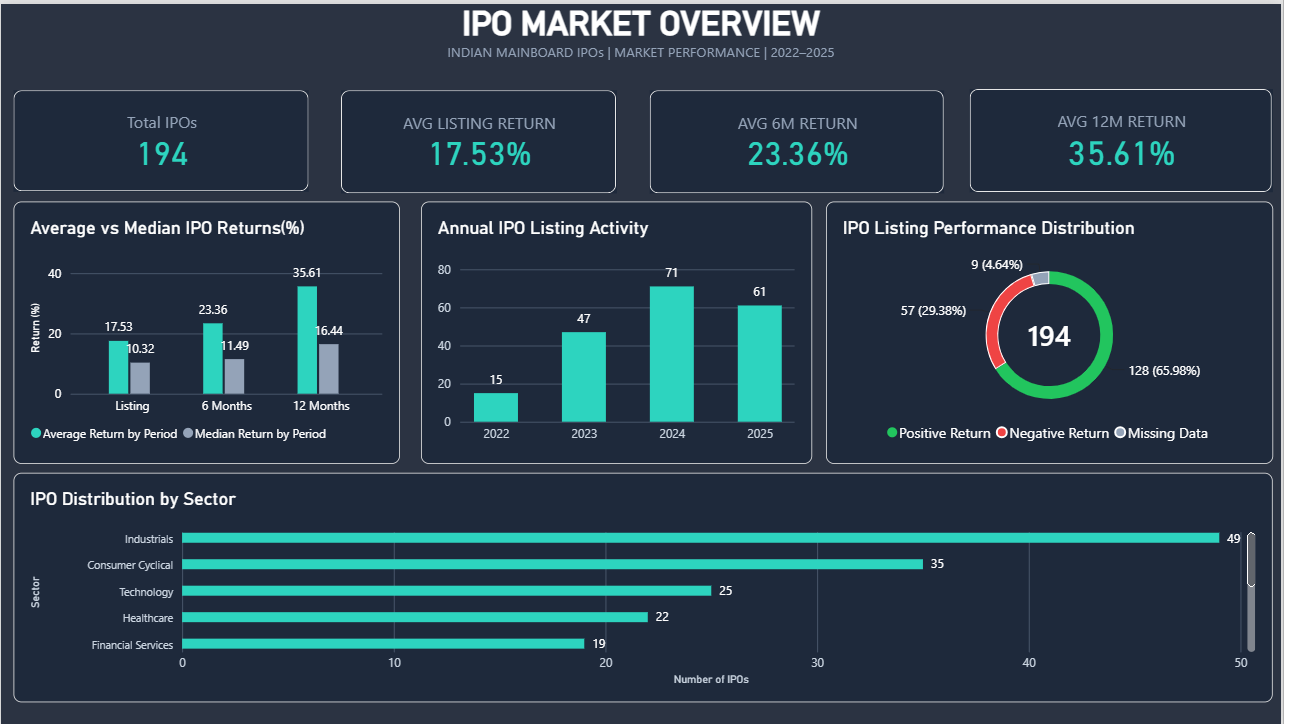

The page's visual inventory and layout, read from the dashboard file:
{"tool":"powerbi","page":{"name":"IPO Market Overview","canvas":[1920,1080],"ordinal":0},"visuals":[{"type":"cardVisual","fields":{"Data":["ipo_master_analysis.Total IPOs","ipo_master_analysis.Avg Listing Return","ipo_master_analysis.Avg 6M Return","ipo_master_analysis.Avg 12M Return"]},"box":[5.6,0,1909.1,406.7],"z":0},{"type":"clusteredBarChart","title":"IPO Distribution by Sector","fields":{"Category":["ipo_master_analysis.SECTOR"],"Y":["Count(ipo_master_analysis.SYMBOL)"]},"box":[960.2,406.7,960.2,674],"z":1000},{"type":"clusteredColumnChart","title":"Average vs Median IPO Returns","fields":{"Category":["Return Period.Period"],"Y":["ipo_master_analysis.Average Return by Period","ipo_master_analysis.Median Return by Period"]},"box":[0,406.7,965.8,674],"z":2000}]}

Visuals, with their boxes in screenshot pixels (x1, y1, x2, y2), scaled from the page's 1920x1080 canvas onto the 1291x724 screenshot:
cardVisual - ipo_master_analysis.Total IPOs x ipo_master_analysis.Avg Listing Return: {"x1": 4, "y1": 0, "x2": 1287, "y2": 273}
"IPO Distribution by Sector" clusteredBarChart: {"x1": 646, "y1": 273, "x2": 1290, "y2": 723}
"Average vs Median IPO Returns" clusteredColumnChart: {"x1": 0, "y1": 273, "x2": 649, "y2": 723}
